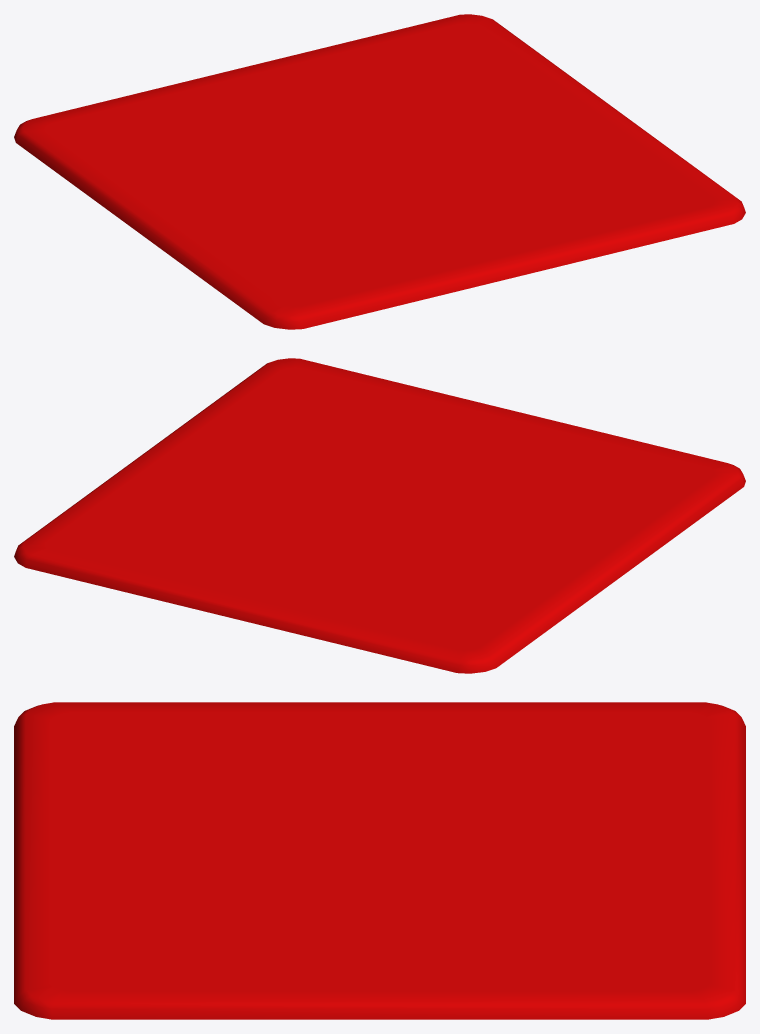
3 renders of one model, top to bottom at view 1: azimuth 30°, elevation 25°; view 2: azimuth 150°, elevation 25°; view 3: azimuth 270°, elevation 25°, orthographic. The views are drawn at different scales.
Parts seen in each view (by area): view 1: Mesh; view 2: Mesh; view 3: Mesh.
Part boxes in pixels (bbox=[...]): Mesh: bbox=[14, 14, 745, 329]; Mesh: bbox=[14, 358, 745, 673]; Mesh: bbox=[14, 702, 745, 1019].
Size of the model in its own units: 2 by 0.0395 by 2.
